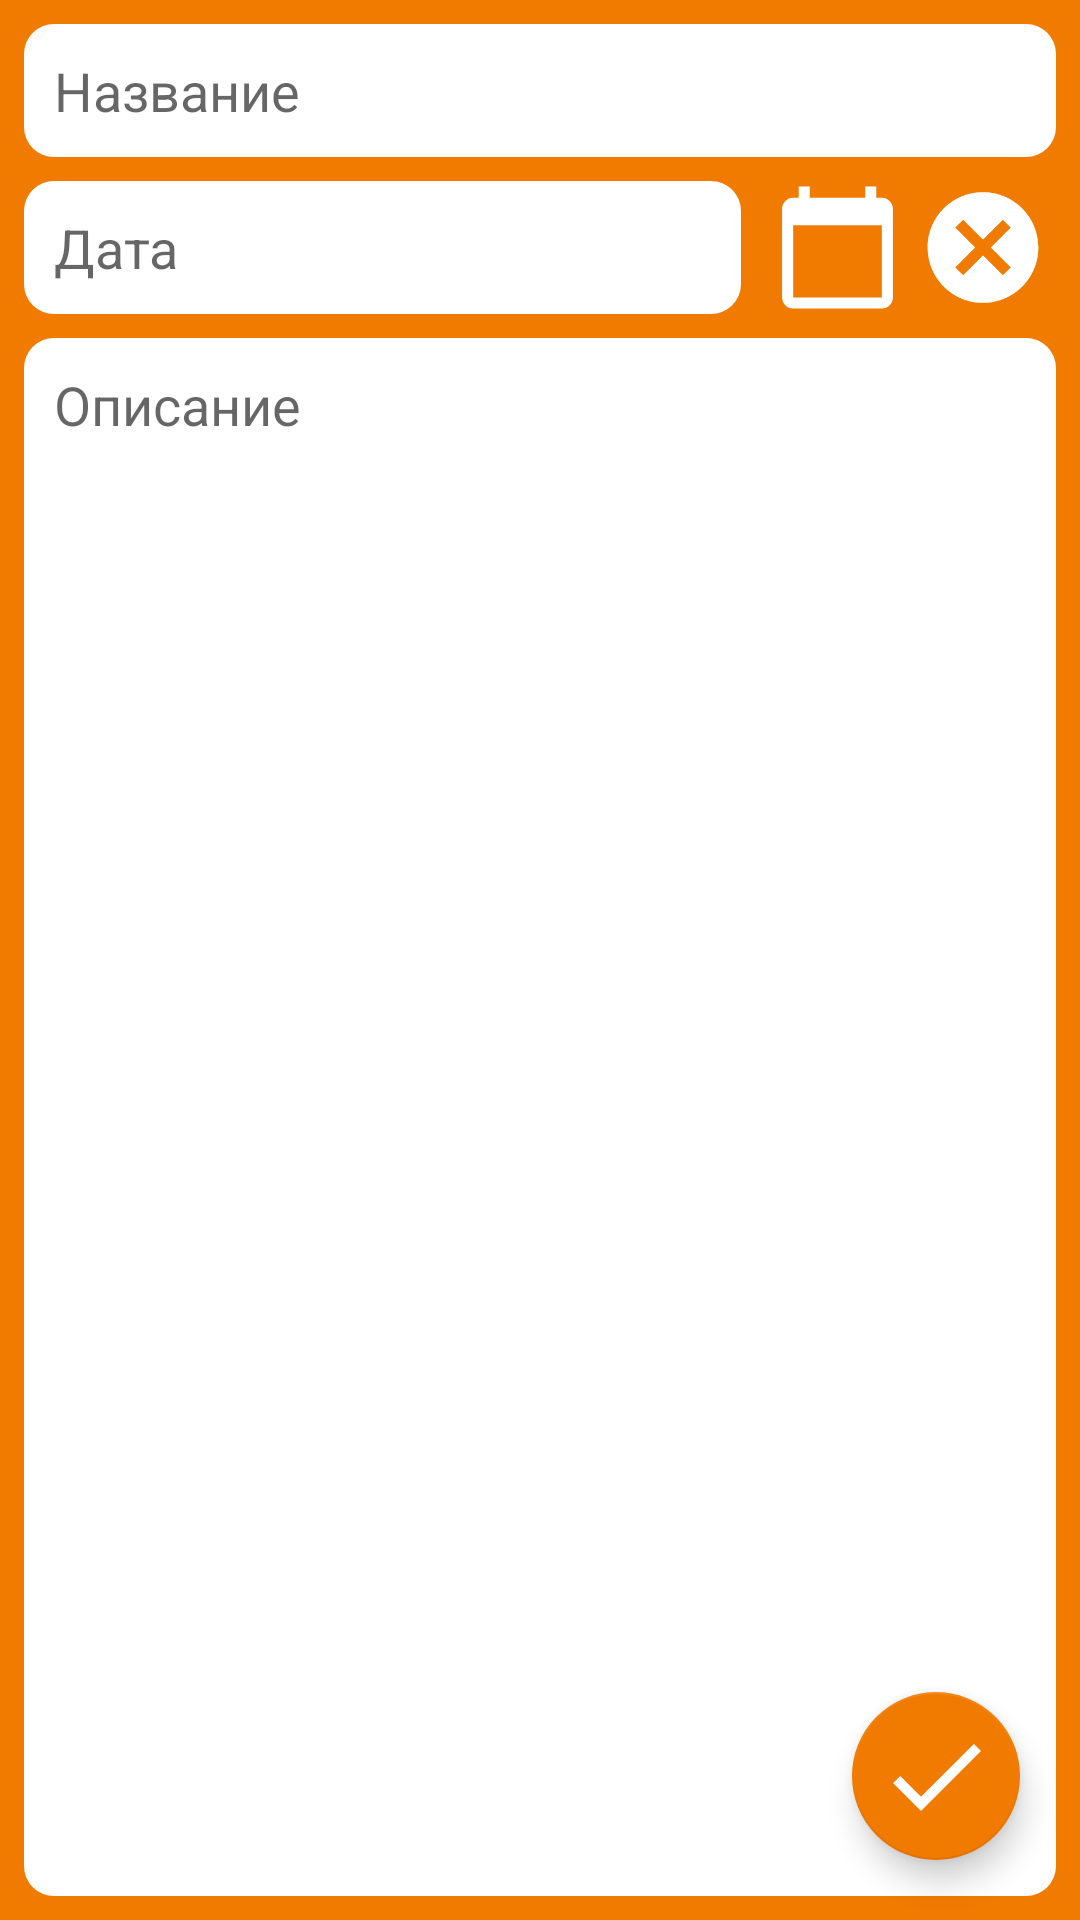

Screen size 1080×1920. Icon name, then its center in pixels as point (x, y):
calendar: point (837, 247)
check: point (936, 1776)
clear: point (983, 247)
